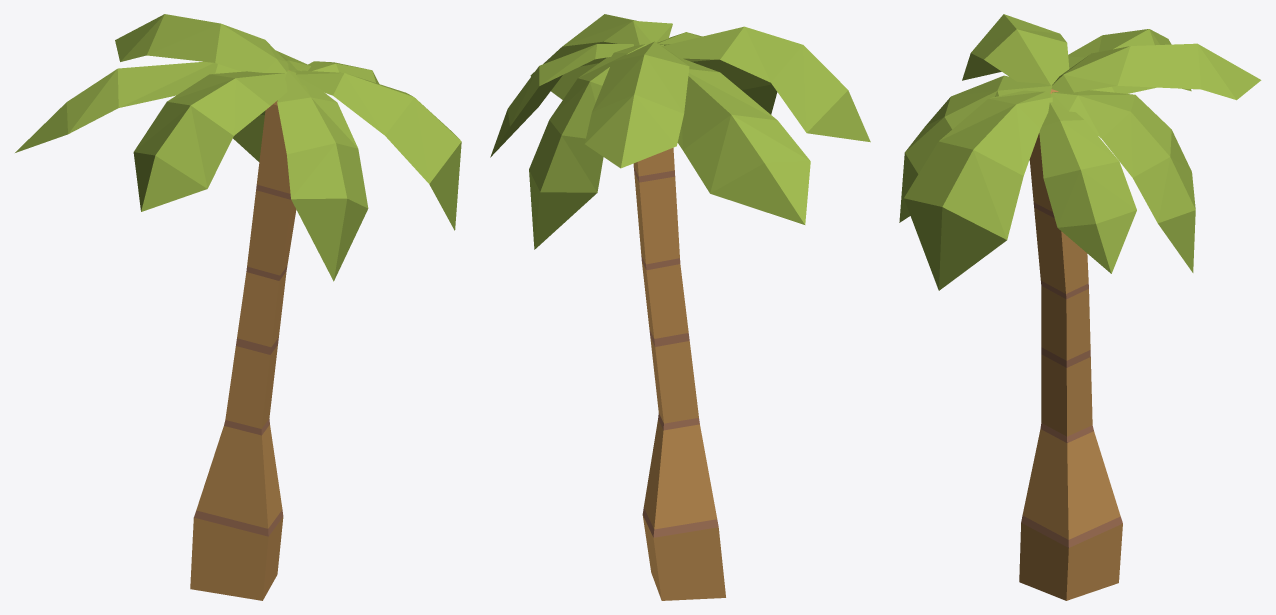
File: PalmTree_01.glb
3 views of the same model, side by side, from view 1: azimuth 30°, elevation 25°; view 2: azimuth 150°, elevation 25°; view 3: azimuth 270°, elevation 25° (orthographic). The views are drawn at different scales.
Parts seen in each view (by area): view 1: PalmTree_01; view 2: PalmTree_01; view 3: PalmTree_01.
Part boxes in pixels (left/top/right/bottom): PalmTree_01: left=15, top=14, right=461, bottom=600; PalmTree_01: left=490, top=14, right=870, bottom=600; PalmTree_01: left=899, top=14, right=1261, bottom=600.
Size of what is drawn, in the model's own units: 4.67 by 6.73 by 4.07.
1 material, 1 textured.
